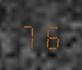seven: (19, 19, 39, 49)
six: (40, 19, 60, 50)
